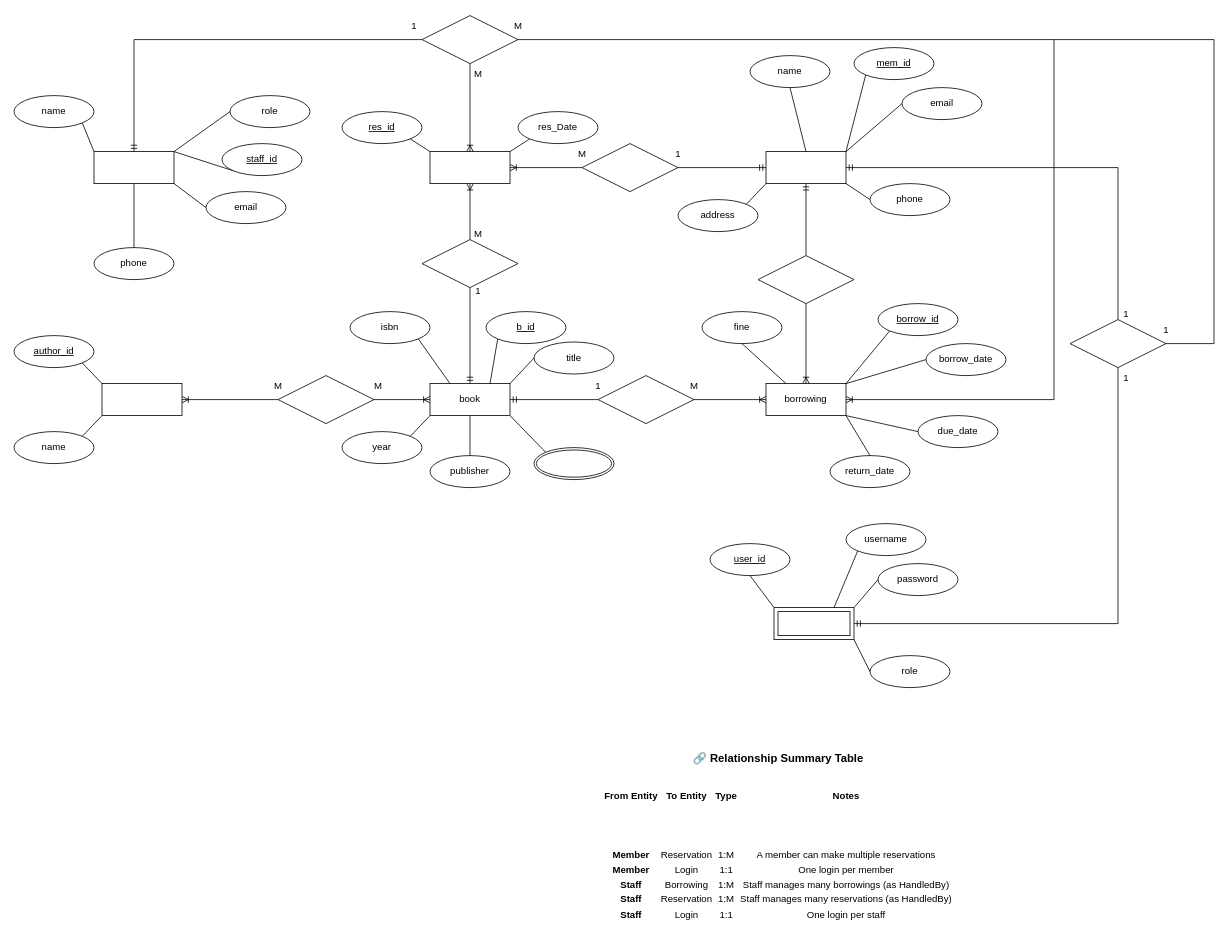
Image size: 1229x941. Some labels were removed from this diagram. Each missing label, with the box of its shape:
author: (101, 383, 182, 416)
can: (1069, 319, 1166, 368)
can be borrowed: (597, 375, 694, 424)
can be reserved: (421, 239, 518, 288)
can borrow: (757, 255, 854, 304)
can reserve: (581, 143, 678, 192)
edition: (533, 447, 614, 480)
handled by: (421, 15, 518, 64)
LOGIN: (773, 607, 854, 640)
member: (765, 151, 846, 184)
reversation: (429, 151, 510, 184)
staff: (93, 151, 174, 184)
writes: (277, 375, 374, 424)
